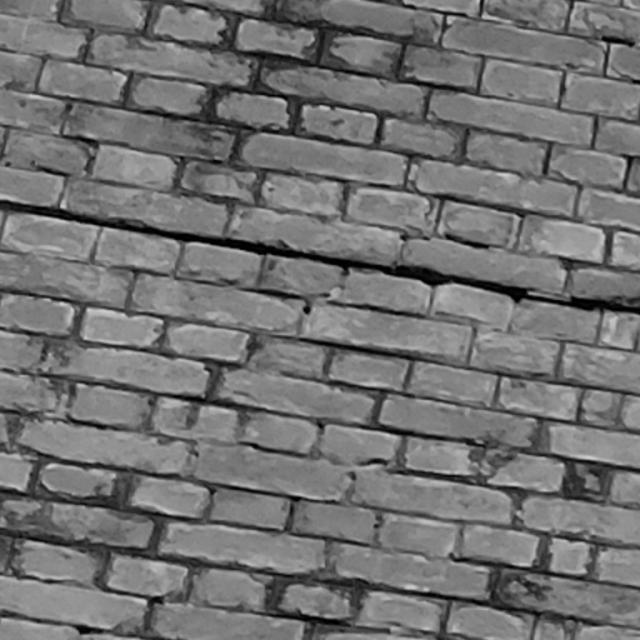crack: (1, 198, 640, 316)
